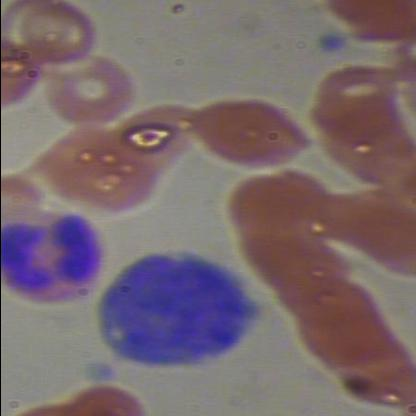Platelets: (78, 358, 118, 384), (311, 27, 351, 53)
RBC: (178, 80, 309, 172), (56, 136, 166, 216), (42, 58, 152, 134), (6, 0, 116, 66), (317, 185, 415, 253), (311, 330, 415, 390), (276, 278, 380, 338), (295, 308, 399, 367), (249, 242, 352, 301), (312, 91, 410, 149), (312, 62, 410, 113), (338, 354, 415, 415), (1, 34, 50, 114), (62, 380, 167, 415), (1, 392, 101, 416)
WBC: (94, 236, 262, 372), (1, 209, 102, 312)
